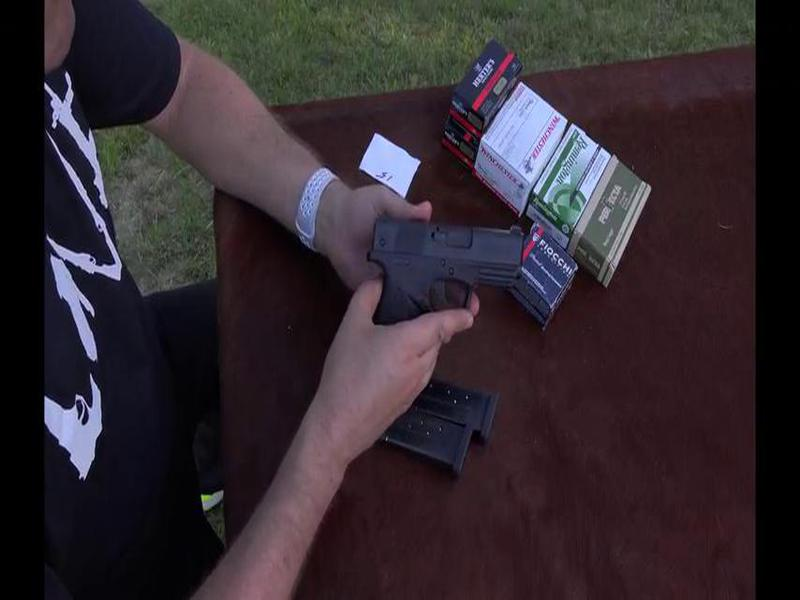Pistola: (348, 197, 540, 343)
